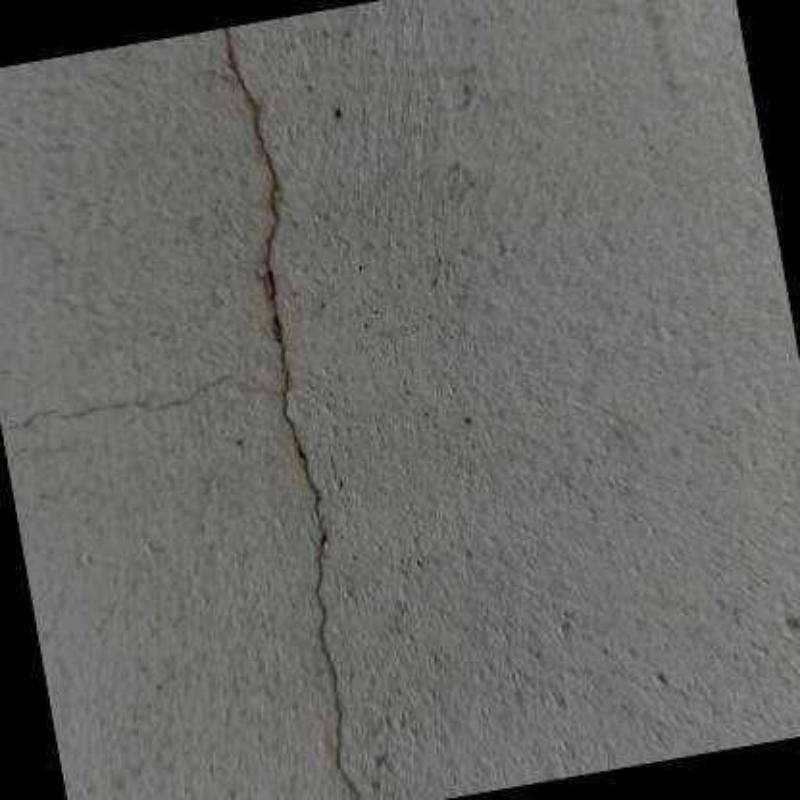crack: (224, 25, 364, 799), (4, 373, 229, 431)
